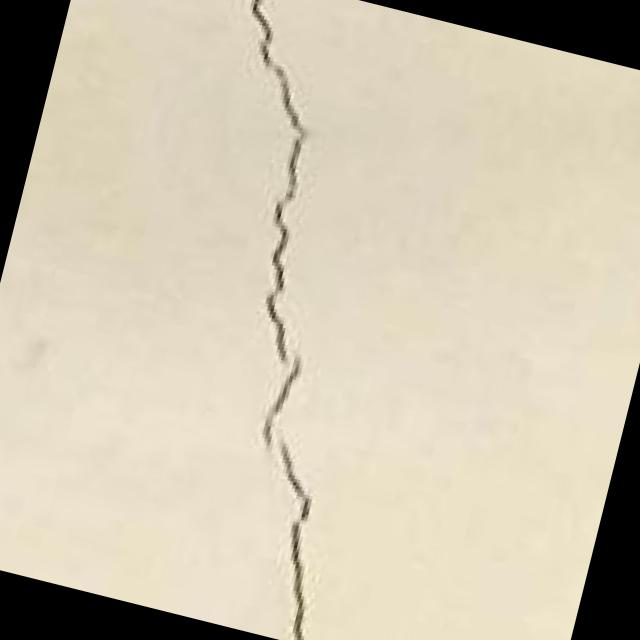crack: (60, 0, 500, 640)
